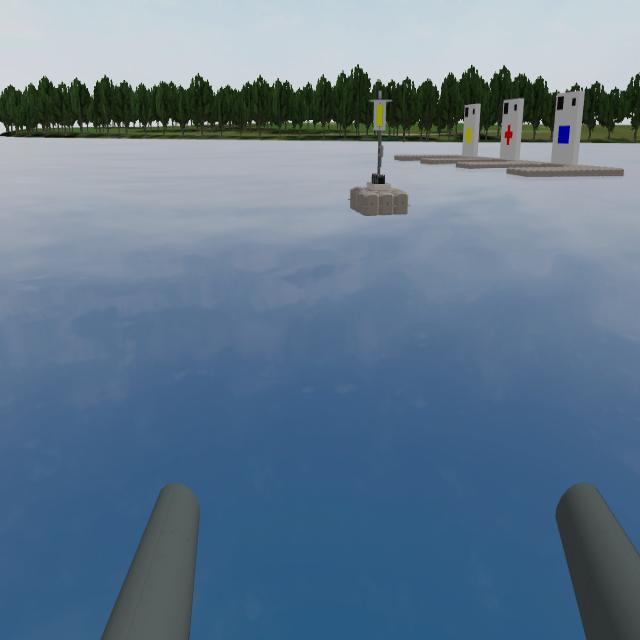yellow_pole: (369, 80, 394, 158)
